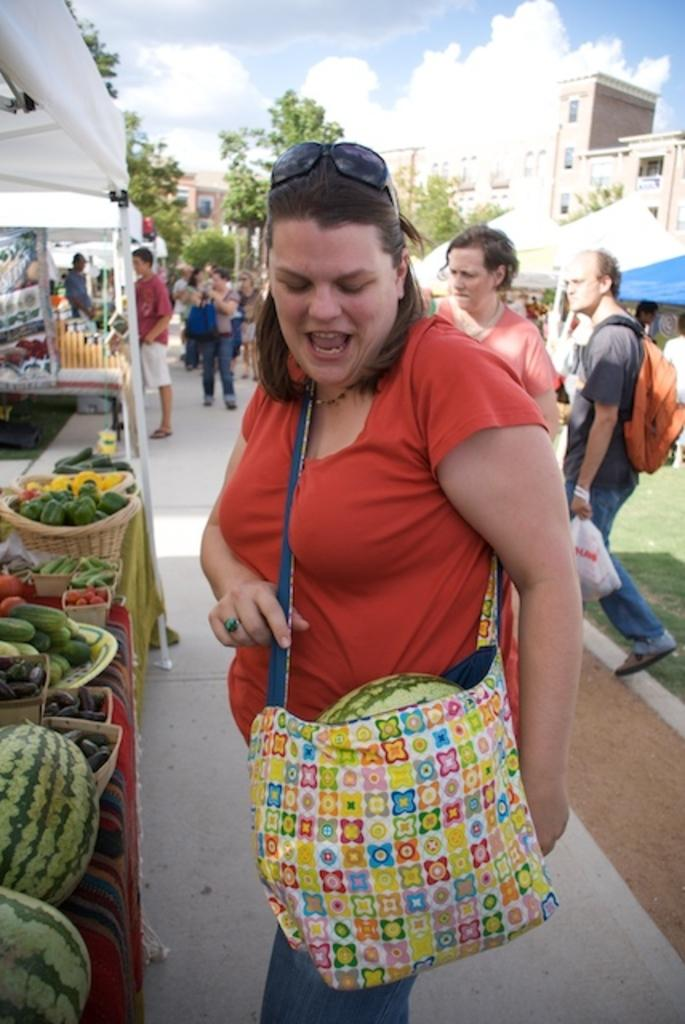Luggage-and-bags: (253, 368, 554, 989), (573, 322, 683, 488), (573, 520, 621, 603)
